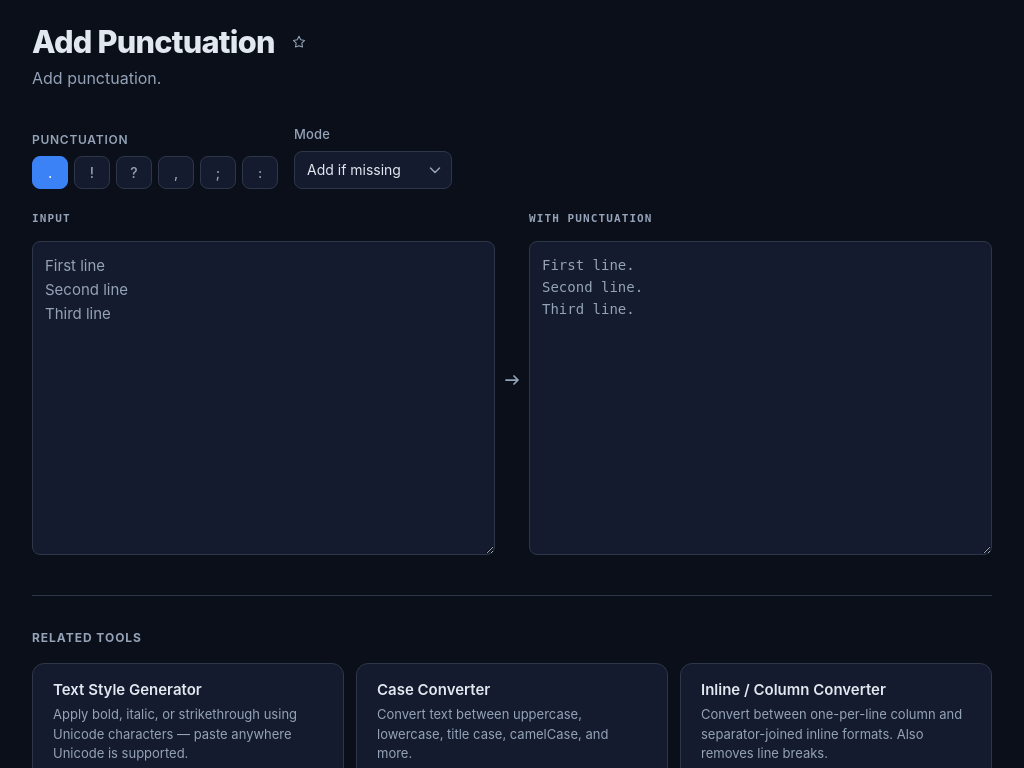
AddPunctuation › does not add period to line that already has it
Type "Hello." into the text box named "input" at [264, 398], box x1=32 y1=240 x2=495 y2=554
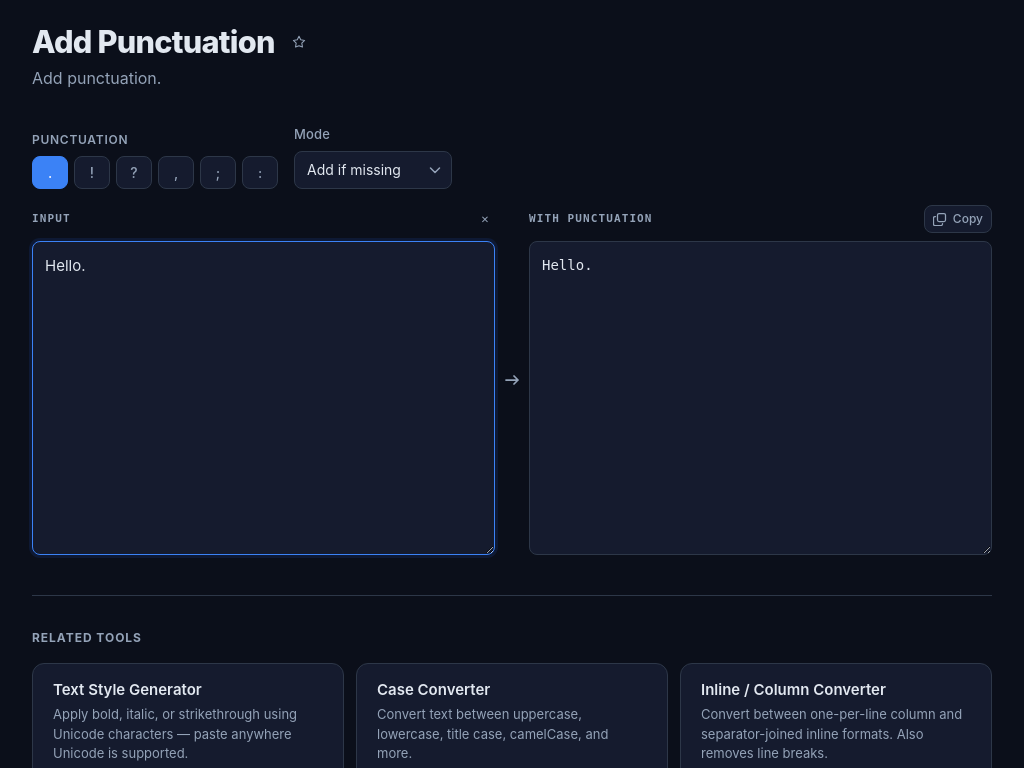
Now the text box named "with punctuation" holds "Hello.", box x1=529 y1=240 x2=992 y2=554
